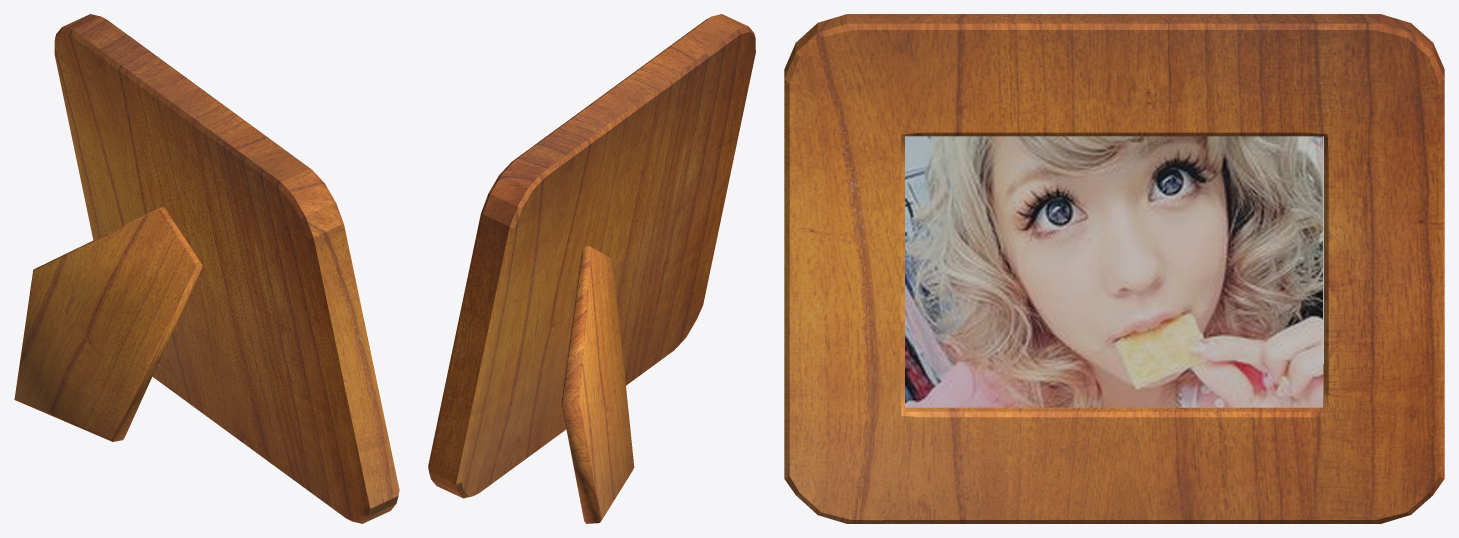
The model's file is woodFrame.fbx.
3 renders of one model, left to right at view 1: azimuth 30°, elevation 25°; view 2: azimuth 150°, elevation 25°; view 3: azimuth 270°, elevation 25°, orthographic. The views are drawn at different scales.
Visible parts, largest first — view 1: WoodenFrameNew_01; view 2: WoodenFrameNew_01; view 3: WoodenFrameNew_01.
Part boxes in pixels (x1,y1,x2,y2): WoodenFrameNew_01: [14, 14, 399, 523]; WoodenFrameNew_01: [428, 14, 755, 523]; WoodenFrameNew_01: [784, 14, 1444, 523].
Bounding box in the file's own units: 26.45 × 56.41 × 72.49.
Materials: 1 (1 with a texture image).
